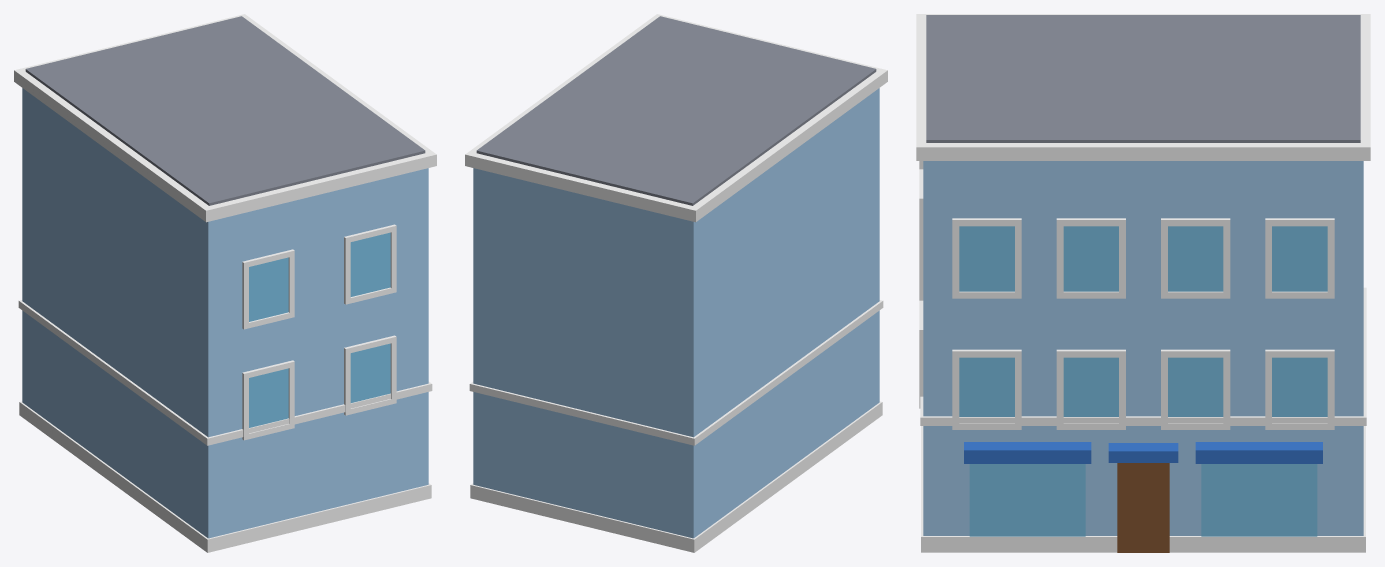
Rendered from prop_building2.glb.
3 renders of one model, left to right at view 1: azimuth 30°, elevation 25°; view 2: azimuth 150°, elevation 25°; view 3: azimuth 270°, elevation 25°, orthographic. The views are drawn at different scales.
Visible parts, largest first — view 1: main, roof, trim, glass, frames; view 2: main, roof, trim; view 3: main, roof, glass, trim, frames, awning, door.
Boxes of the visible parts, box(x1,y1,x2,y2) form: main: box(22, 88, 428, 538); roof: box(25, 16, 425, 205); trim: box(14, 14, 436, 552); glass: box(249, 232, 390, 427); frames: box(242, 224, 396, 440); main: box(473, 88, 879, 538); roof: box(476, 16, 876, 205); trim: box(465, 14, 887, 552); main: box(923, 161, 1363, 535); roof: box(926, 15, 1360, 142); glass: box(959, 226, 1327, 536); trim: box(916, 14, 1370, 552); frames: box(919, 161, 1334, 429); awning: box(964, 442, 1322, 463); door: box(1117, 463, 1169, 552).
Size of the model in its own units: 5.66 by 7.82 by 7.84.
